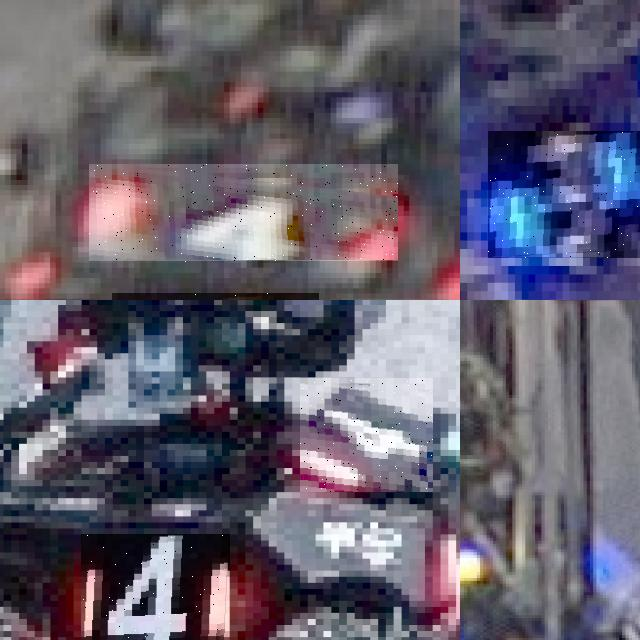B3: (487, 131, 640, 257)
R4: (89, 165, 398, 262), (81, 534, 229, 640), (300, 378, 433, 492), (433, 474, 460, 619)
